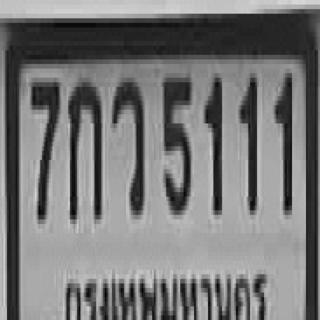A01: (66, 78, 100, 219)
A37: (110, 78, 143, 215)
N01: (273, 69, 290, 210), (203, 73, 220, 210), (238, 73, 255, 210)
N05: (161, 73, 191, 210)
N07: (30, 80, 58, 217)
P04: (63, 262, 269, 320)
